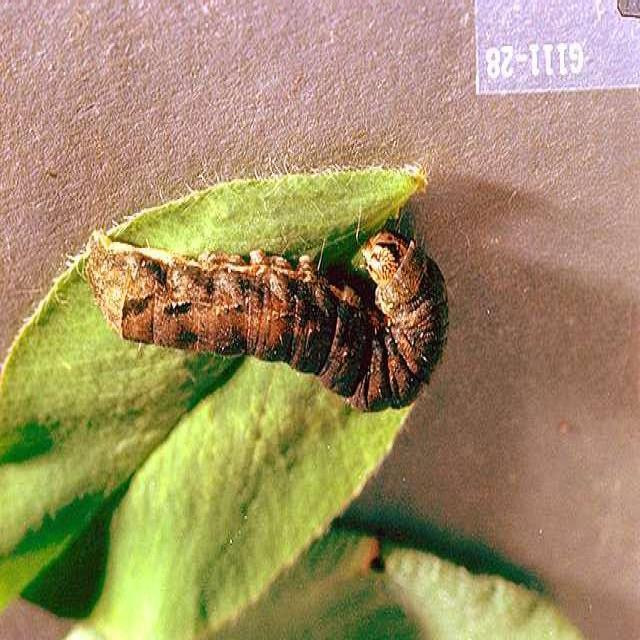army worm: (81, 209, 450, 422)
